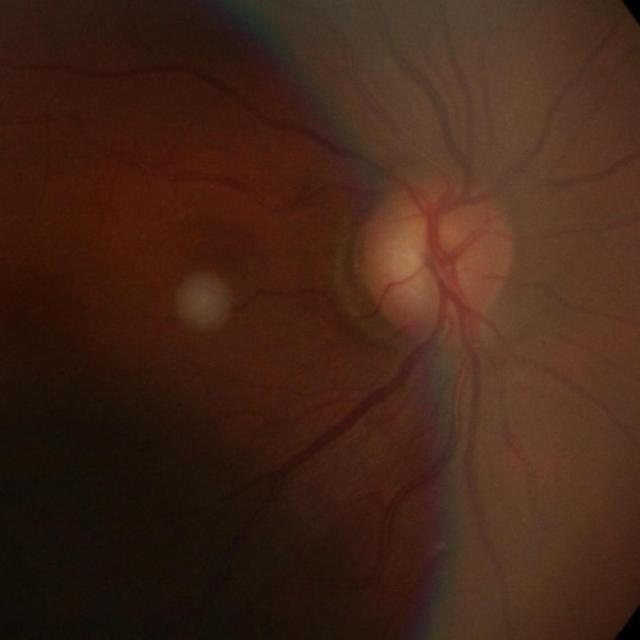OC: (386, 220, 468, 303)
OD: (356, 182, 511, 341)
